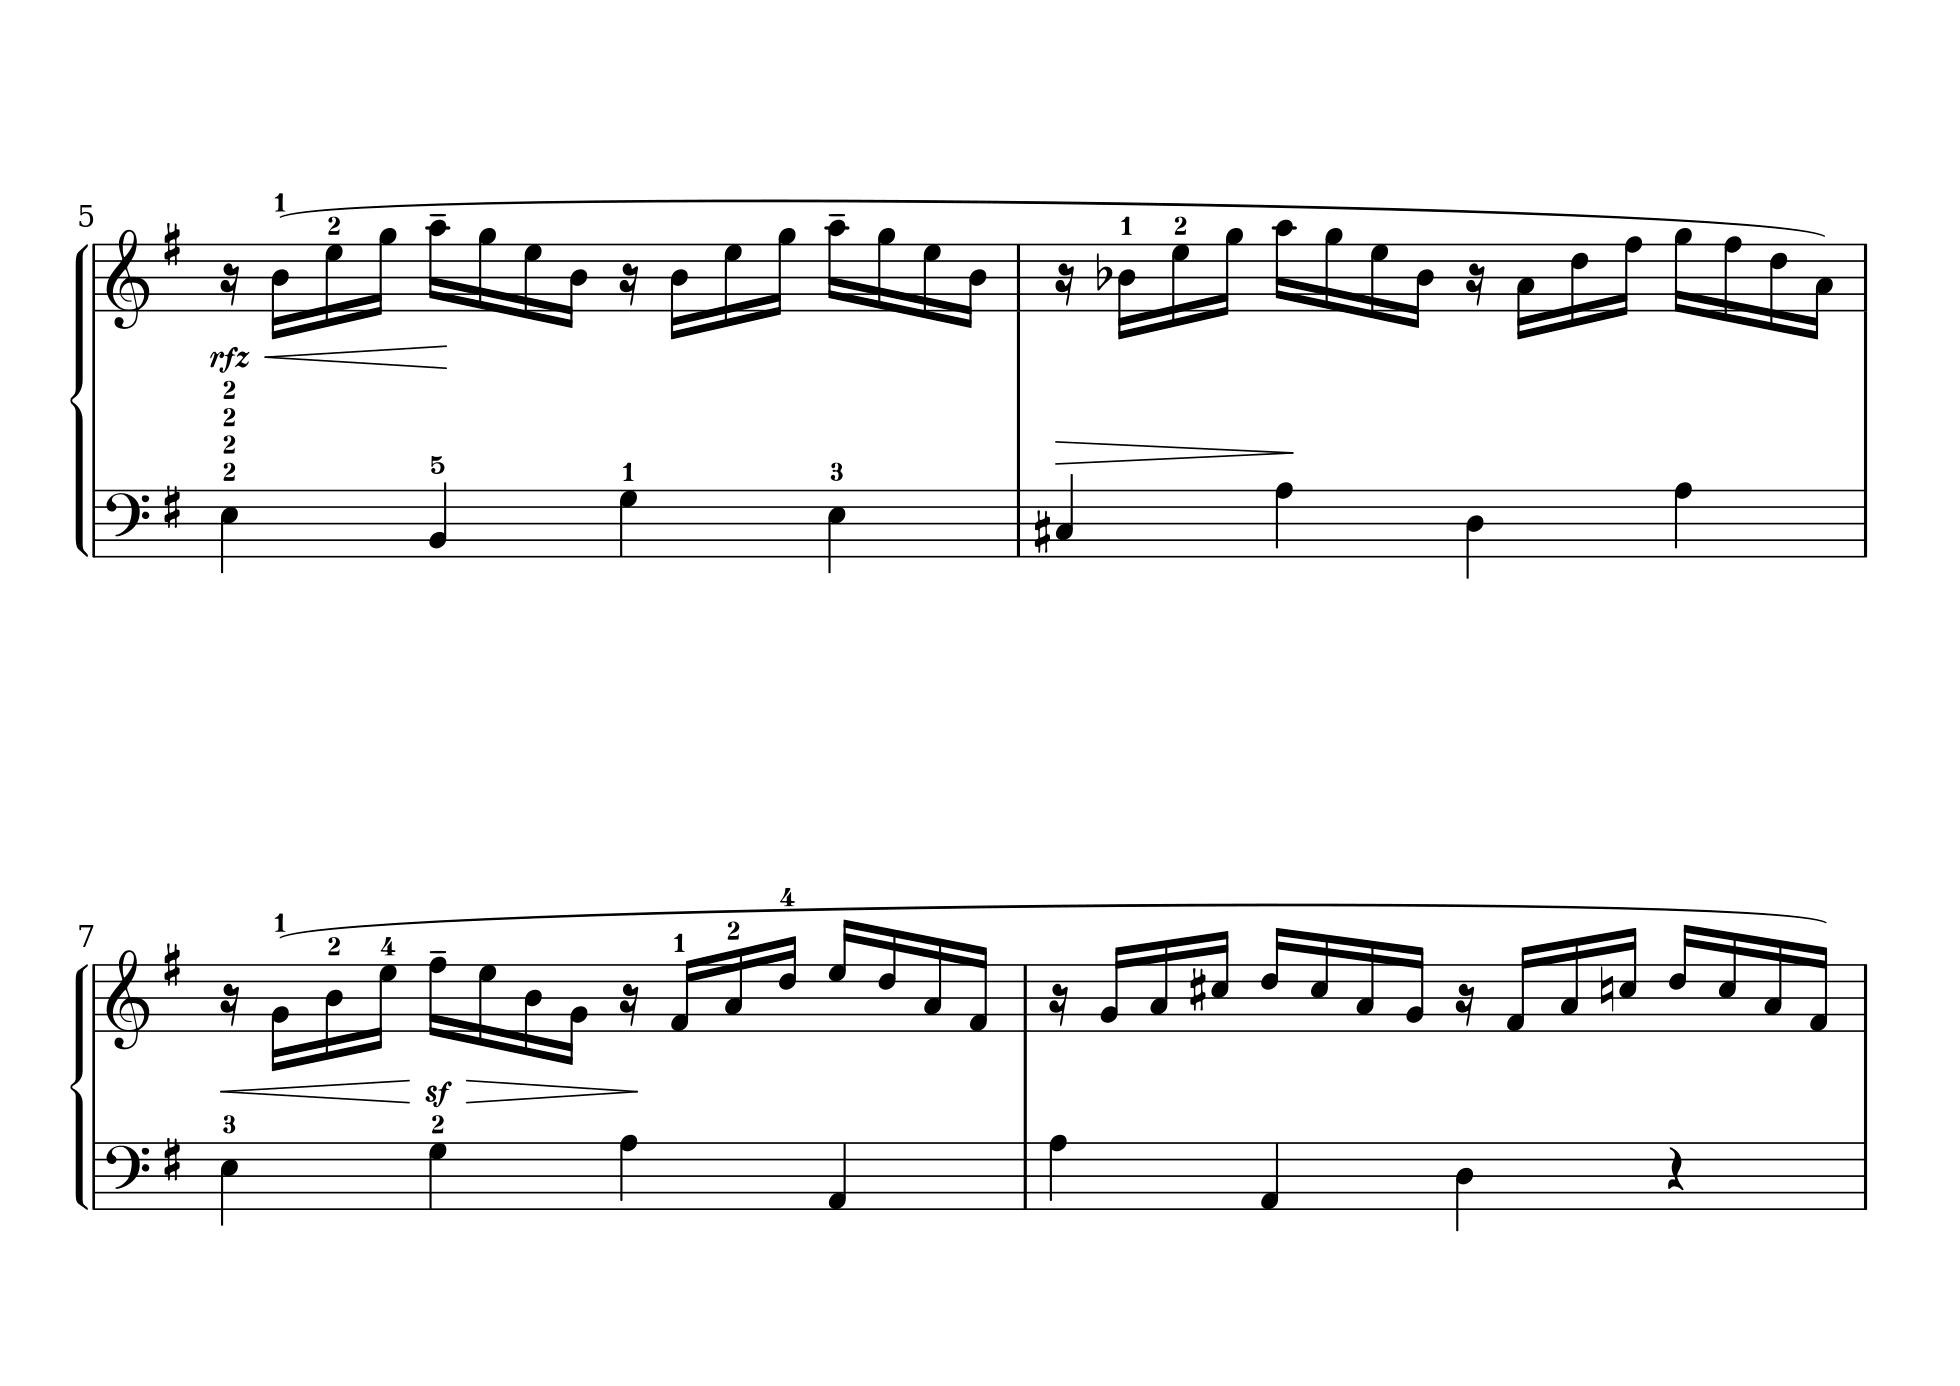1: (1119, 214, 1137, 238), (271, 189, 286, 214), (271, 910, 286, 934), (673, 930, 687, 955), (621, 459, 634, 481)
16_0: (969, 943, 990, 1035)
16_1: (1503, 942, 1534, 1032), (667, 955, 697, 1033), (1809, 943, 1830, 1033)
16_10: (426, 216, 451, 312), (1272, 217, 1297, 310), (825, 217, 849, 313)
16_2: (561, 961, 588, 1066), (1098, 943, 1126, 1032), (270, 961, 291, 1071), (1404, 942, 1426, 1032)
16_3: (1807, 241, 1834, 342), (1354, 934, 1377, 1033), (1558, 934, 1581, 1033), (1762, 934, 1785, 1032), (1147, 937, 1170, 1032), (721, 945, 745, 1033), (922, 933, 943, 1033), (1515, 241, 1536, 340)
16_4: (1408, 241, 1435, 330), (562, 241, 588, 328), (961, 241, 987, 328), (322, 961, 343, 1062), (268, 241, 289, 340), (667, 241, 688, 340), (1116, 241, 1137, 340), (523, 961, 543, 1059)
16_5: (1716, 927, 1740, 1032), (1617, 925, 1639, 1033), (1308, 928, 1330, 1032), (1210, 927, 1231, 1030)
16_6: (1668, 919, 1698, 1032), (1260, 925, 1290, 1032), (876, 925, 898, 1033), (777, 931, 799, 1032), (1767, 240, 1789, 334), (1569, 240, 1590, 328)
16_7: (826, 915, 855, 1033), (367, 960, 397, 1051), (322, 240, 345, 330), (721, 238, 742, 331), (475, 958, 496, 1051), (1170, 238, 1191, 330), (1368, 238, 1389, 325), (921, 238, 940, 324), (522, 238, 541, 322)
16_8: (1614, 235, 1644, 318), (1722, 234, 1743, 325), (427, 954, 447, 1039)
16_9: (766, 225, 796, 319), (367, 225, 397, 318), (1215, 225, 1243, 319), (475, 225, 496, 313), (874, 225, 895, 313), (1323, 225, 1342, 315), (1672, 226, 1692, 316)
2: (325, 213, 343, 237), (220, 460, 238, 484), (1170, 214, 1189, 234), (724, 919, 742, 940), (430, 1111, 445, 1135), (325, 934, 342, 955), (220, 379, 235, 402)
3: (829, 460, 844, 481), (222, 1113, 235, 1135)
4: (379, 933, 397, 957), (778, 885, 796, 907)
4_1: (1257, 1140, 1281, 1212), (826, 1141, 847, 1212)
4_2: (427, 480, 450, 559)
4_3: (1054, 471, 1077, 556)
4_4: (1464, 487, 1485, 580), (1455, 1140, 1476, 1233)
4_5: (219, 487, 238, 574), (826, 487, 846, 574), (219, 1140, 238, 1227)
4_7: (616, 487, 639, 558), (427, 1140, 448, 1210)
4_8: (1273, 478, 1296, 558), (1672, 478, 1693, 558), (618, 1131, 639, 1210), (1047, 1131, 1068, 1210)
5: (78, 201, 94, 228), (429, 451, 444, 478)
7: (76, 919, 96, 948)
Brace: (67, 243, 88, 556), (69, 961, 88, 1209)
Crescendo_hairpin: (267, 342, 447, 372), (223, 1078, 408, 1107)
Diminuendo_hairpin: (1053, 438, 1293, 466), (463, 1078, 634, 1102)
Fclef: (103, 487, 151, 559), (103, 1138, 150, 1210)
Flat: (1095, 249, 1111, 292)
Gclef: (103, 226, 151, 331), (103, 946, 151, 1051)
Natural: (1599, 963, 1617, 1014)
Rests16: (1453, 981, 1477, 1027), (1047, 981, 1071, 1026), (618, 261, 640, 307), (1054, 261, 1077, 307), (618, 981, 640, 1027), (219, 262, 241, 307), (219, 982, 241, 1027), (1465, 261, 1486, 307)
Rests4: (1665, 1144, 1686, 1192)
Sharp: (160, 481, 183, 532), (160, 220, 183, 270), (160, 940, 183, 990), (160, 1135, 183, 1183), (1032, 507, 1053, 555), (1188, 964, 1209, 1012)
Single_barline: (1017, 963, 1035, 1030), (1017, 1141, 1035, 1207), (1857, 490, 1873, 556), (1857, 1143, 1873, 1207), (87, 243, 102, 310), (1858, 243, 1873, 310), (1011, 490, 1026, 556), (87, 964, 102, 1030), (1858, 964, 1873, 1030), (1011, 244, 1026, 309), (88, 490, 102, 556), (88, 1141, 102, 1207)
rfz: (205, 343, 249, 373)
sf: (424, 1081, 451, 1107)
